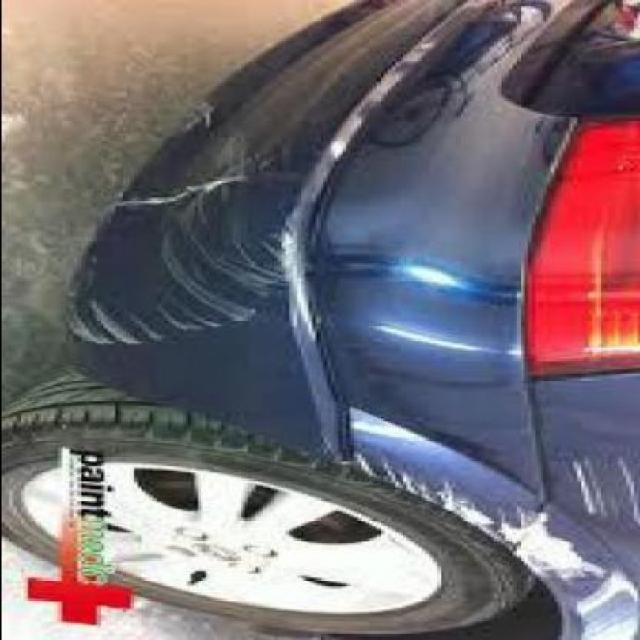damage: (66, 102, 316, 348), (327, 447, 637, 600)
